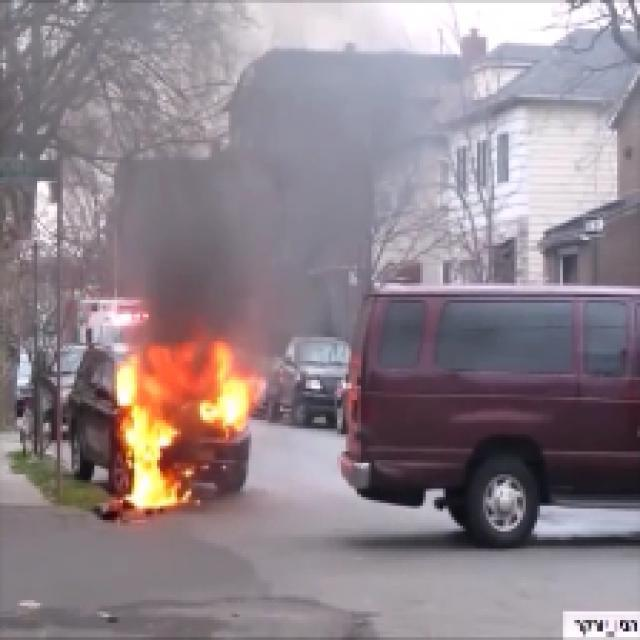Fire: (126, 358, 182, 514), (192, 349, 242, 434)
Smoke: (137, 146, 321, 318), (281, 56, 382, 140)
